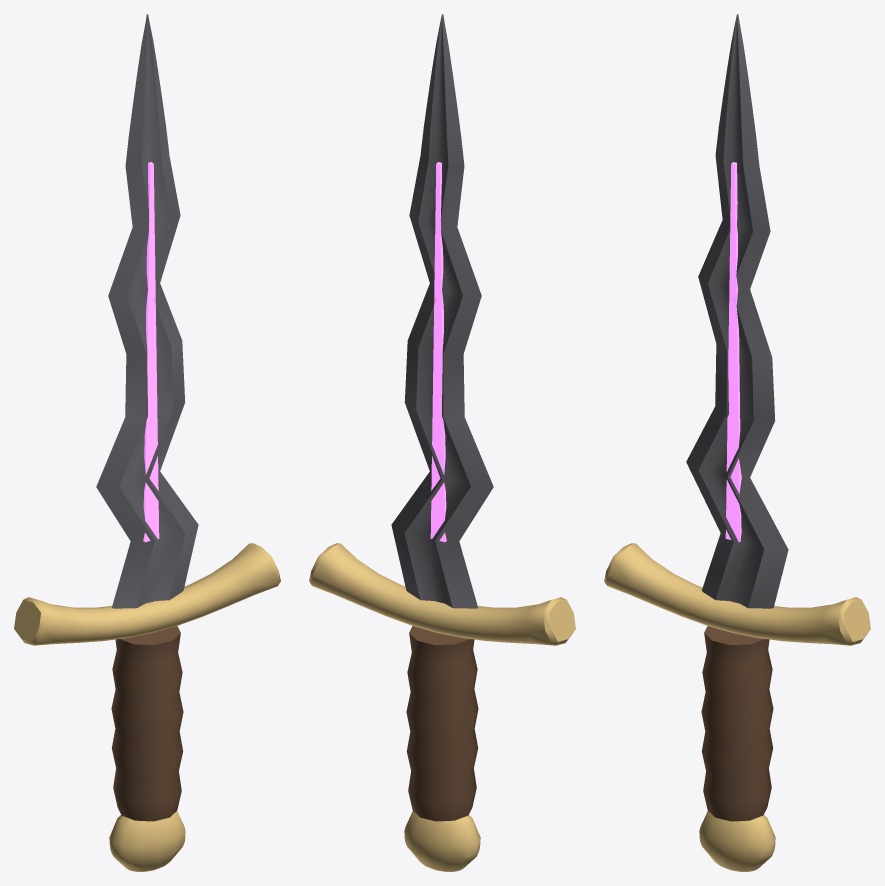
Rendered from shadow_kris.glb.
3 renders of one model, left to right at view 1: azimuth 30°, elevation 25°; view 2: azimuth 150°, elevation 25°; view 3: azimuth 330°, elevation 25°, orthographic.
Visible parts, largest first — view 1: shadow_kris; view 2: shadow_kris; view 3: shadow_kris.
Boxes of the visible parts, x1,y1,x2,y2 form: shadow_kris: (14,14,280,871); shadow_kris: (309,14,575,871); shadow_kris: (604,14,870,871).
Bounding box in the file's own units: 0.1258 × 0.4082 × 0.0299.
